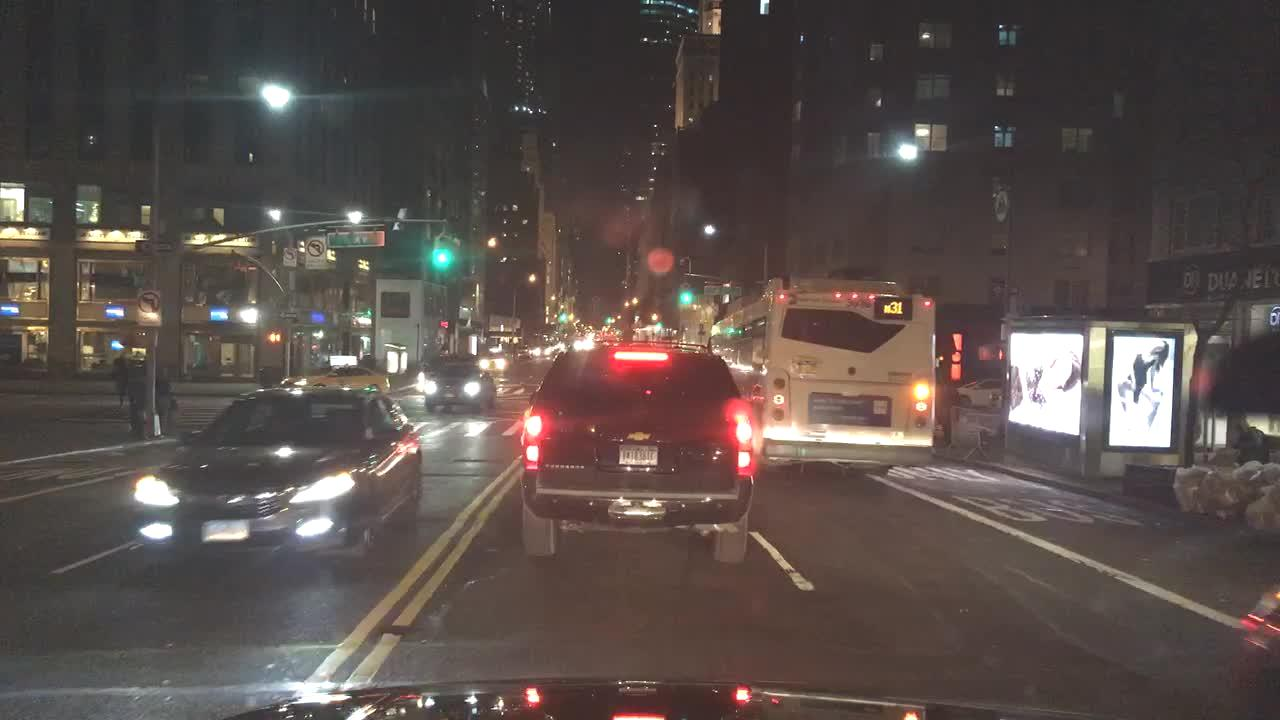chevrolet: (624, 427, 653, 446)
